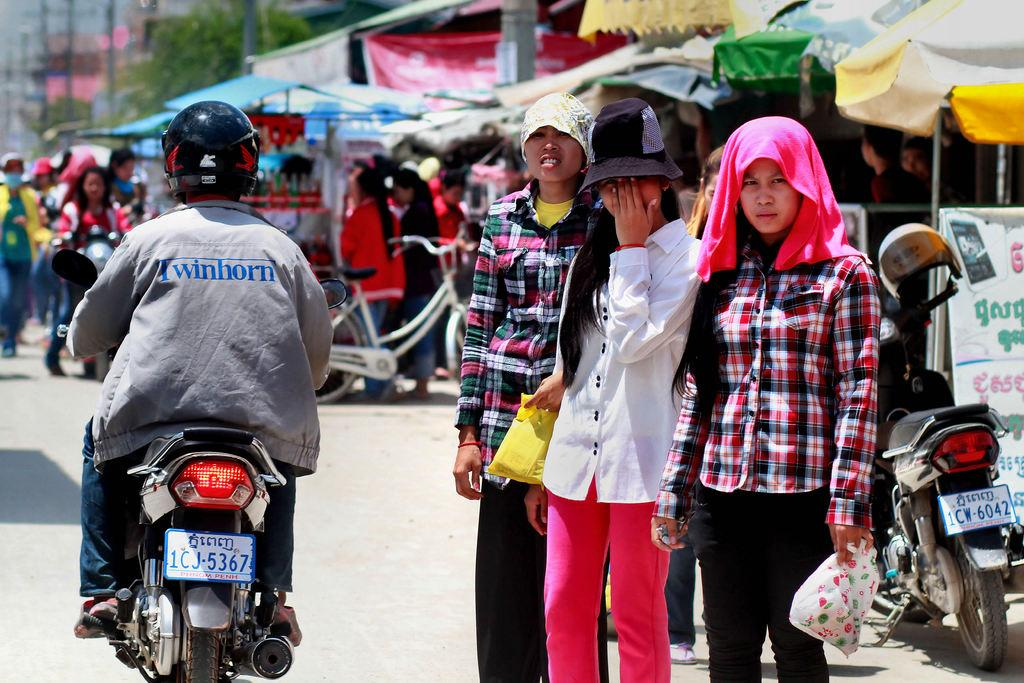Hat: (580, 100, 682, 193)
